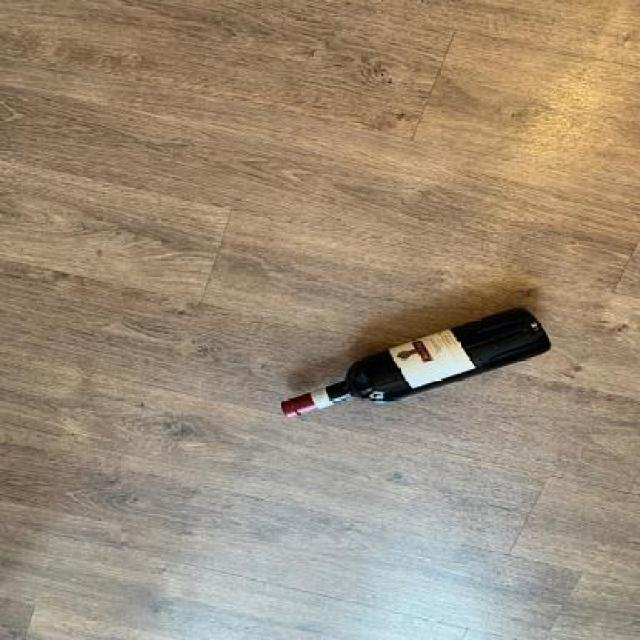trash: (273, 308, 558, 424)
